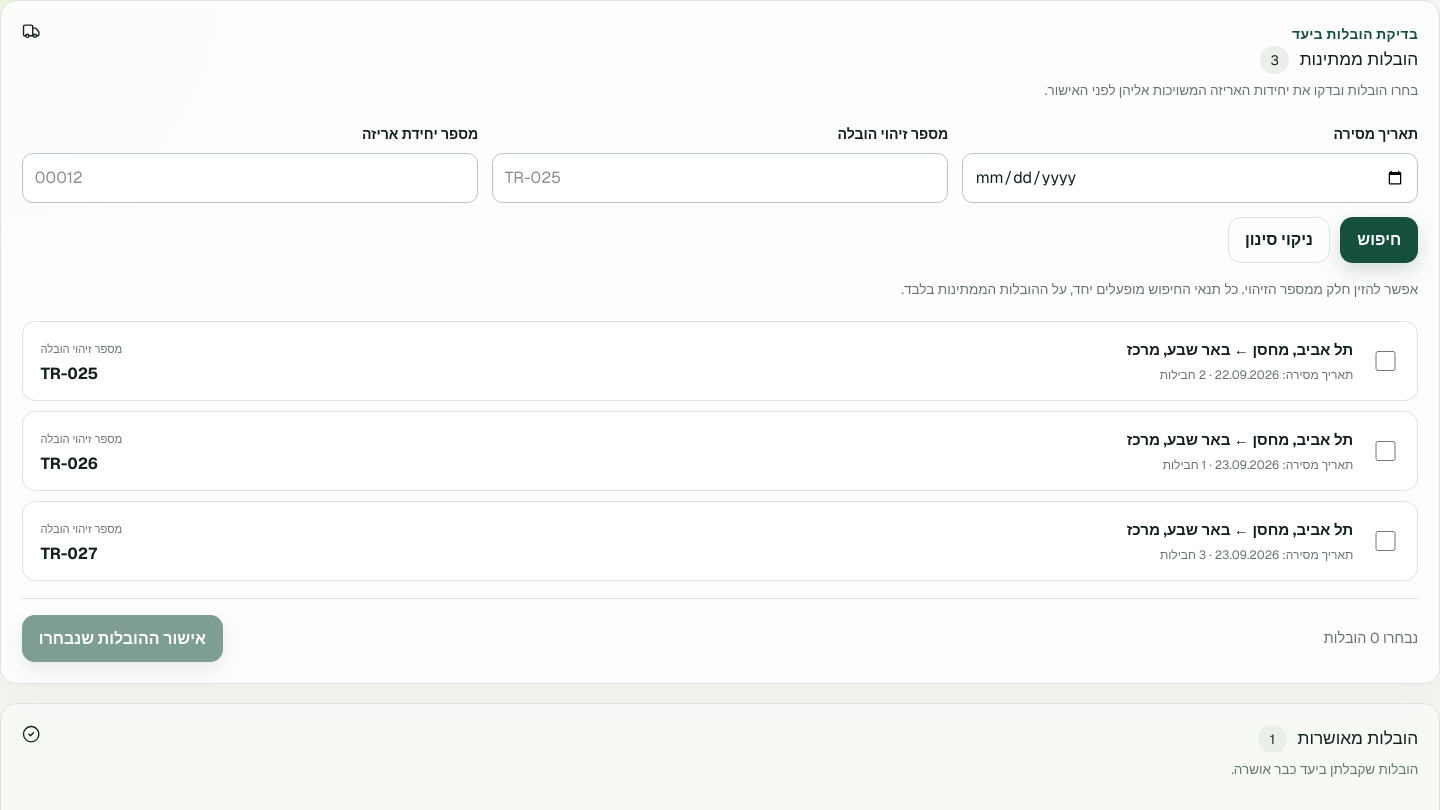
it: delivery receiving › confirms several deliveries at once
Click the checkbox named "בחירת הובלה TR-025: תל אביב, מחסן ← באר שבע, מרכז" at x=1386, y=361, box [1375, 351, 1396, 371]
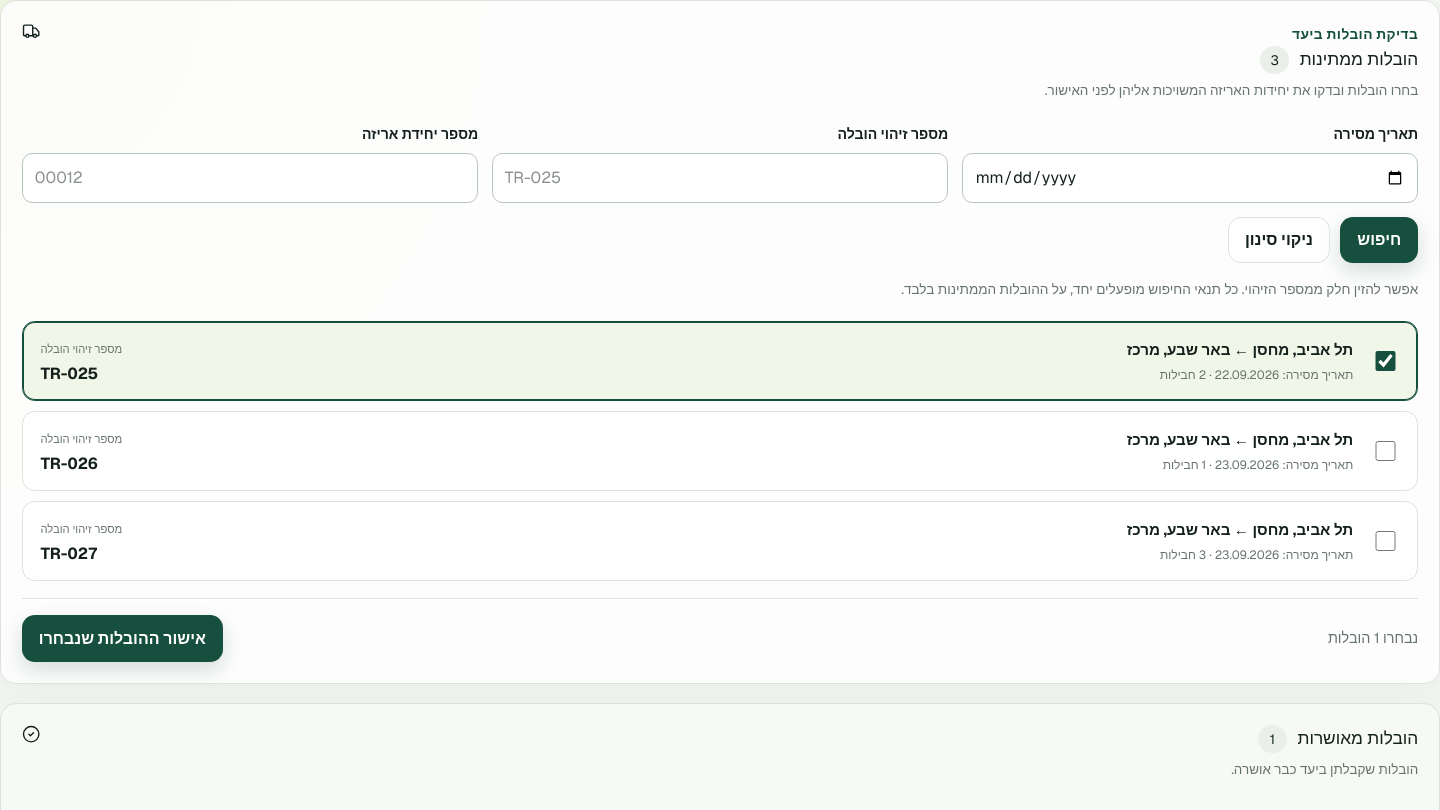
Click the checkbox named "בחירת הובלה TR-026: תל אביב, מחסן ← באר שבע, מרכז" at x=1386, y=451, box [1375, 440, 1396, 461]
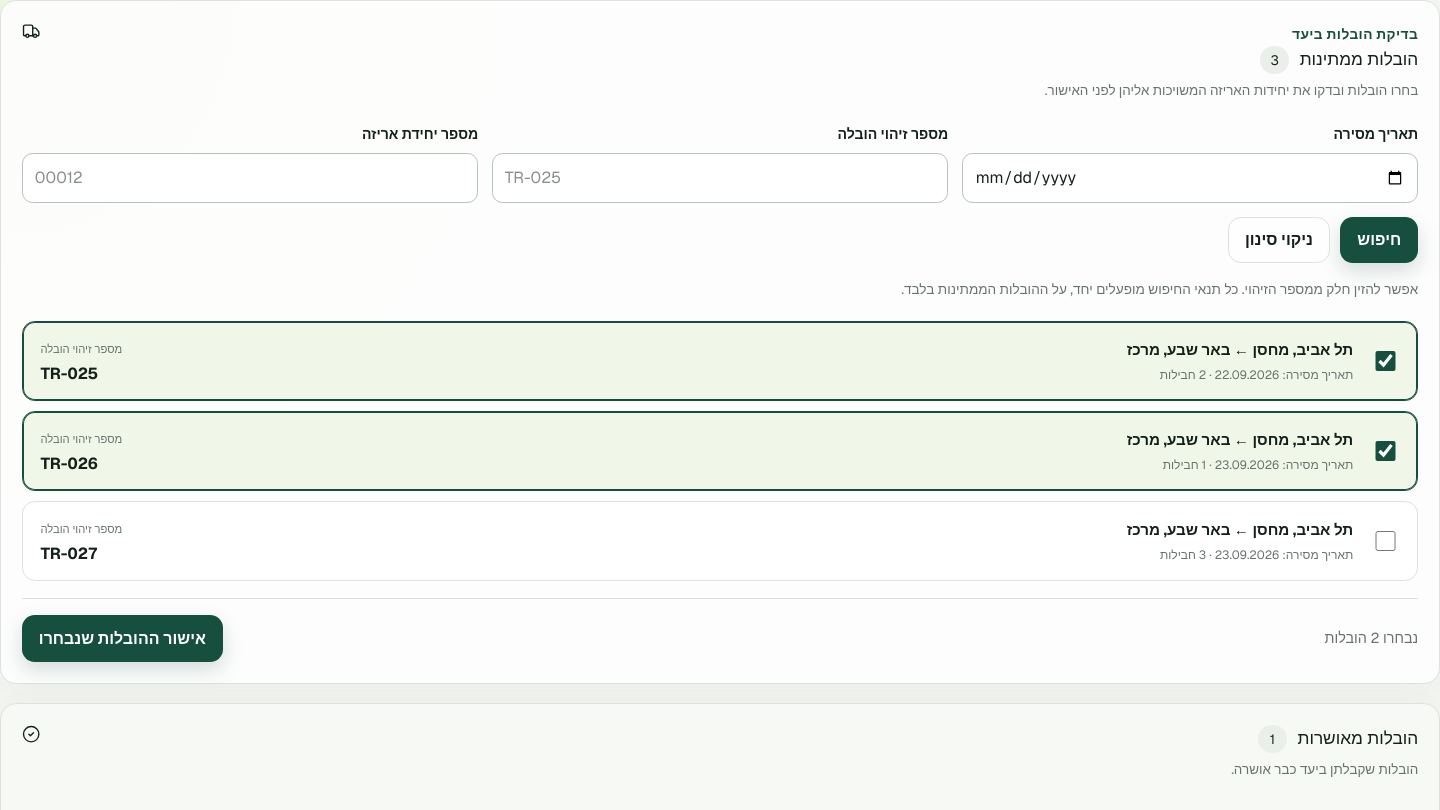
Click the button "אישור ההובלות שנבחרו" at x=122, y=639, box [22, 615, 223, 662]
(page scrolled)
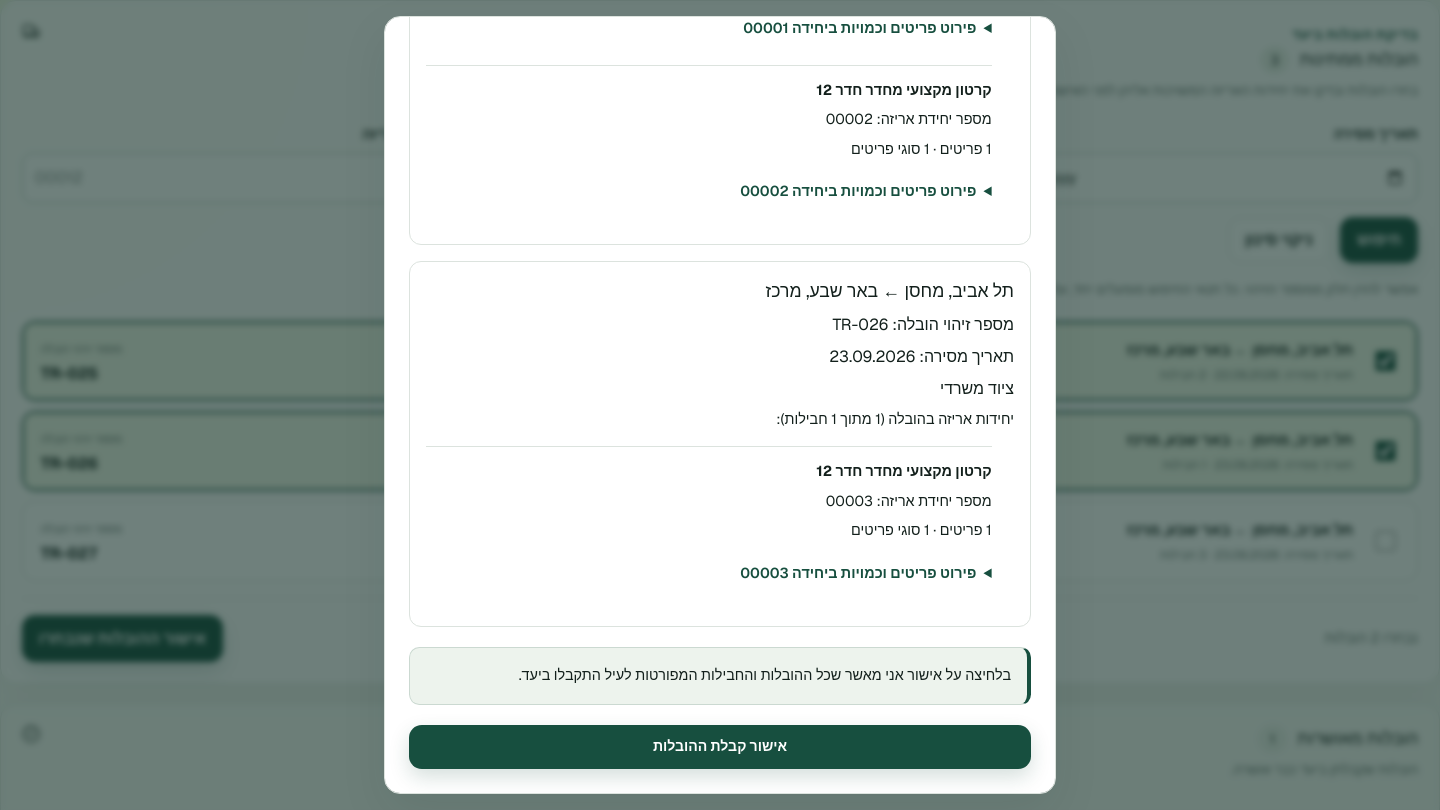
Click the button "אישור קבלת ההובלות" at x=720, y=746, box [409, 724, 1031, 768]
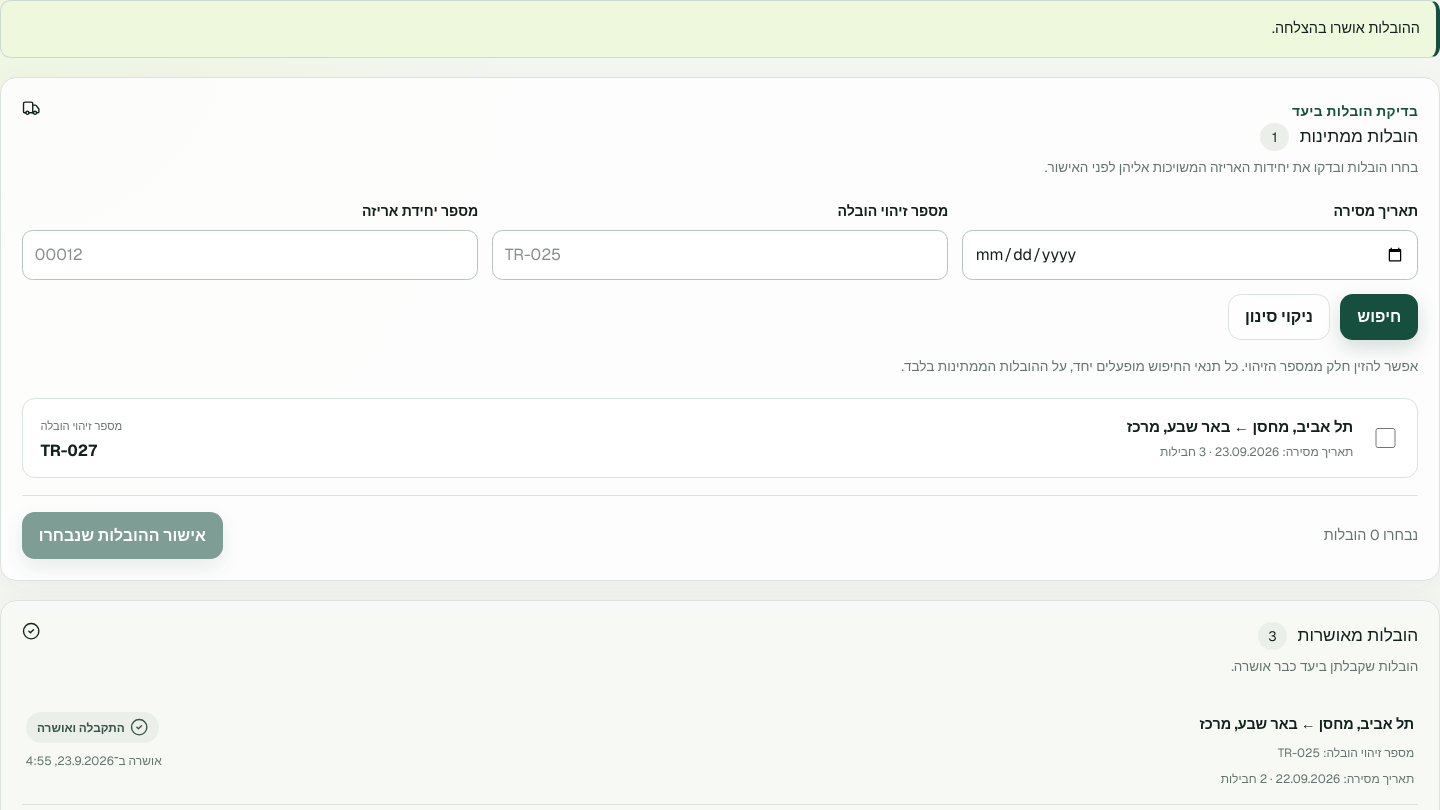
Now the text "ההובלות אושרו בהצלחה." is shown, box [0, 0, 1439, 58]
Now the number of checkboxes is 1, box [1375, 428, 1396, 448]
Now the dialog is gone
